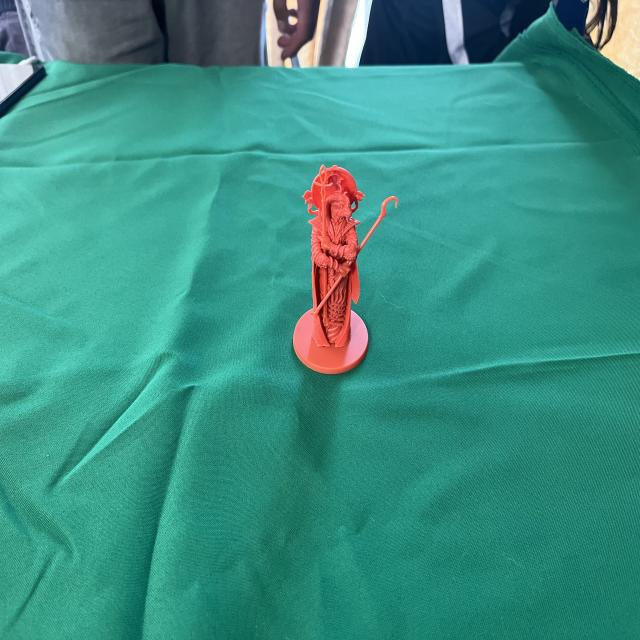amon: (290, 159, 399, 378)
